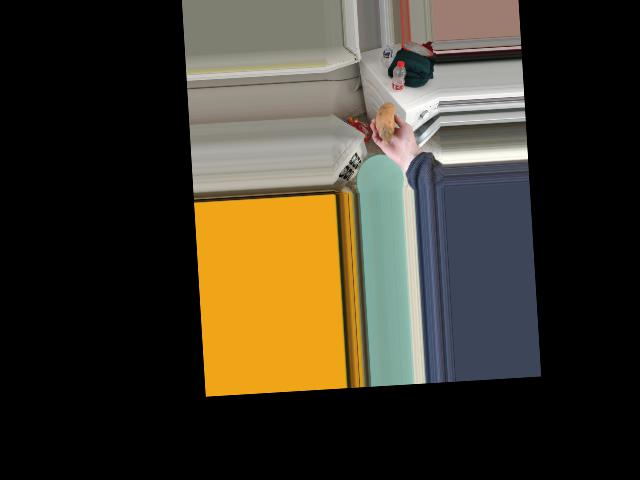sweet_potato: (377, 99, 399, 146)
